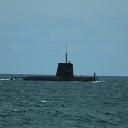submarine: (12, 44, 101, 82)
